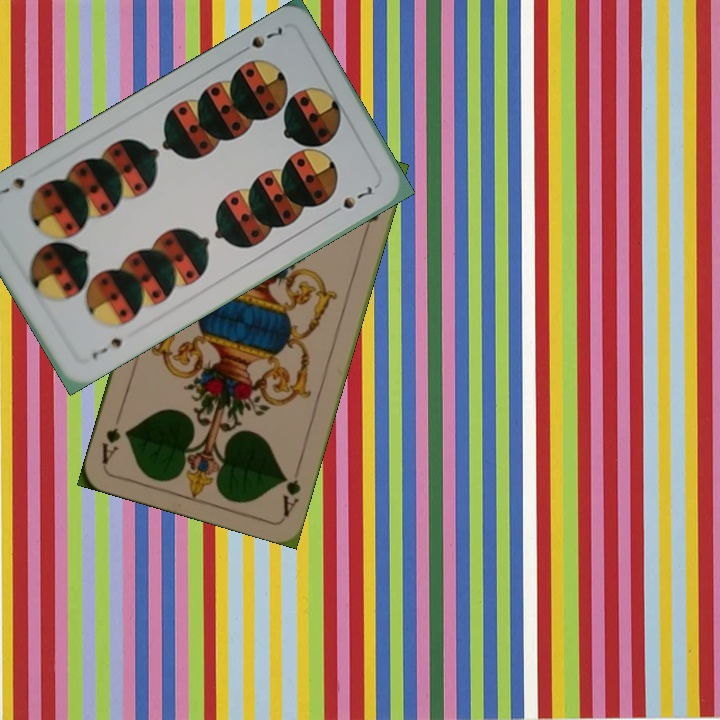GA: (278, 470, 304, 519)
S7: (234, 22, 285, 57), (88, 334, 126, 362)
